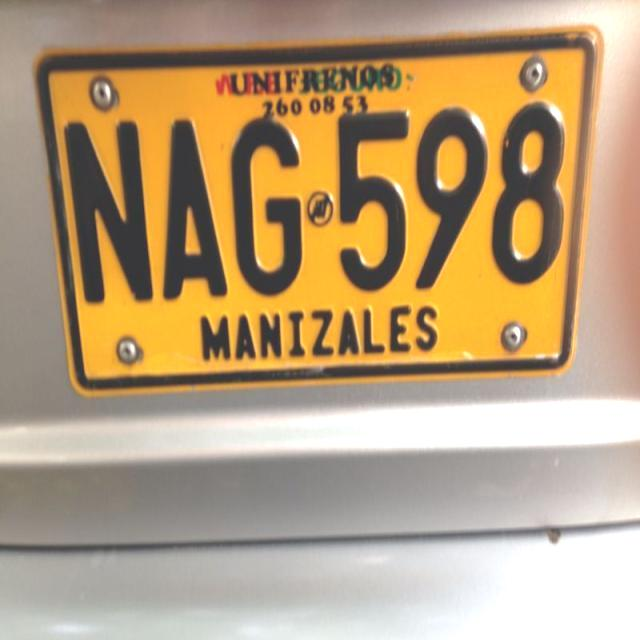placa: (22, 24, 606, 393)
